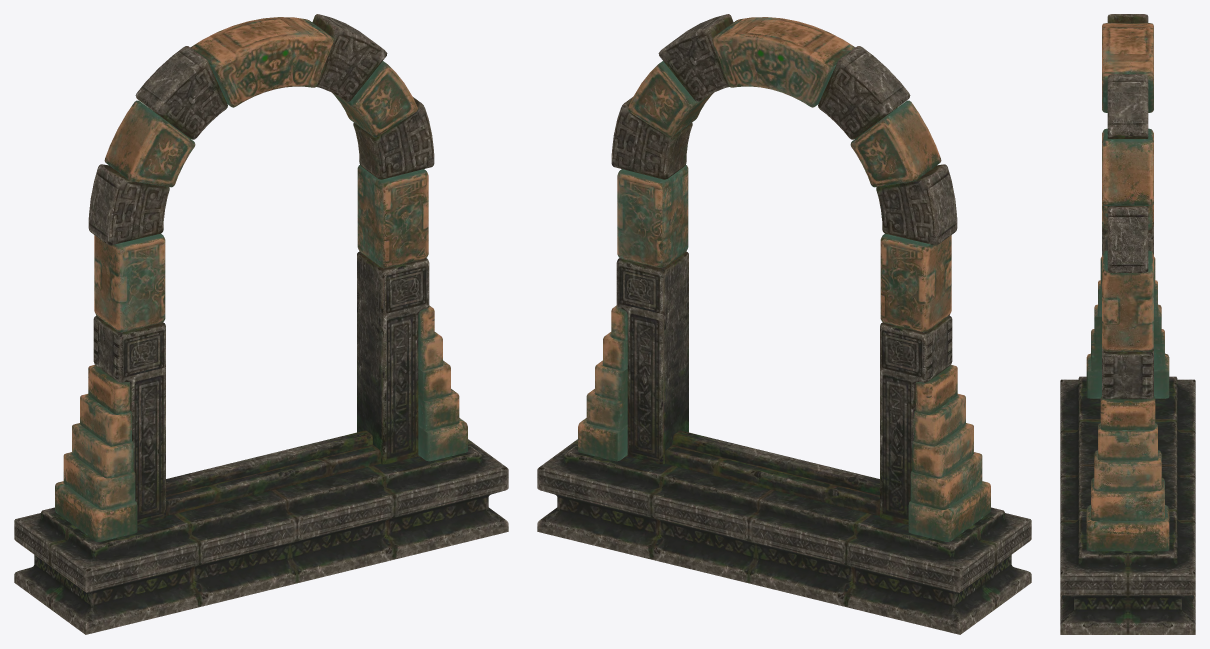
Rendered from portal_frame.glb.
3 renders of one model, left to right at view 1: azimuth 30°, elevation 25°; view 2: azimuth 150°, elevation 25°; view 3: azimuth 270°, elevation 25°, orthographic. The views are drawn at different scales.
Visible parts, largest first — view 1: PortalFrame_PortalFrame_0; view 2: PortalFrame_PortalFrame_0; view 3: PortalFrame_PortalFrame_0.
Boxes of the visible parts, left/top/right/bottom form: PortalFrame_PortalFrame_0: left=14, top=14, right=508, bottom=634; PortalFrame_PortalFrame_0: left=537, top=14, right=1031, bottom=634; PortalFrame_PortalFrame_0: left=1060, top=14, right=1195, bottom=634.
Size of the model in its own units: 322 by 383 by 94.05.
1 material, 1 textured.
